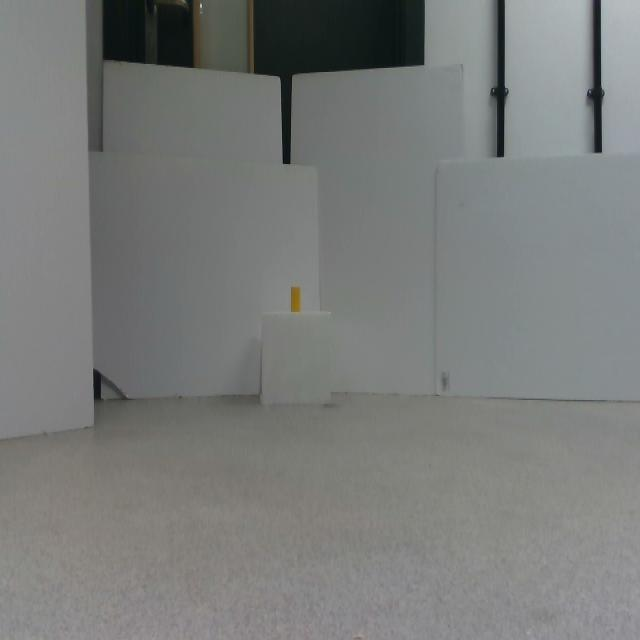yellow_cylinder: (291, 286, 300, 312)
